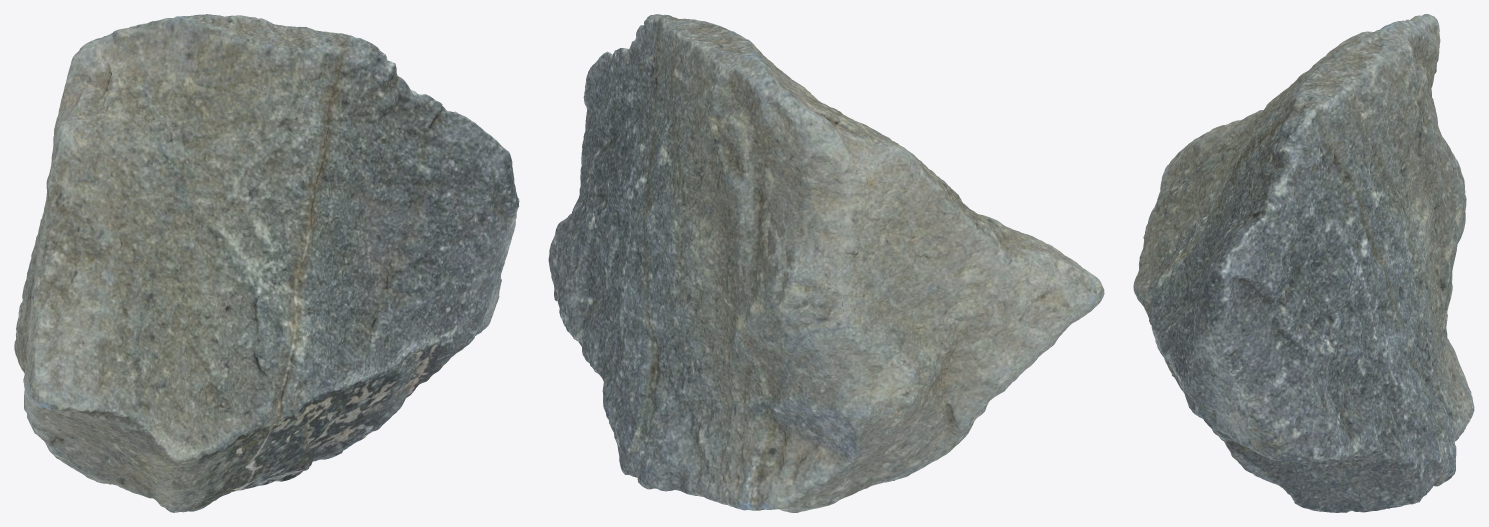
Rendered from serpentinite.glb.
3 views of the same model, side by side, from view 1: azimuth 30°, elevation 25°; view 2: azimuth 150°, elevation 25°; view 3: azimuth 270°, elevation 25° (orthographic). The views are drawn at different scales.
Visible parts, largest first — view 1: Object_2; view 2: Object_2; view 3: Object_2.
Part boxes in pixels (x1,y1,x2,y2): Object_2: (14,14,519,512); Object_2: (548,14,1104,512); Object_2: (1133,14,1474,512).
Size of the model in its own units: 0.11 by 0.0919 by 0.0655.
1 material, 1 textured.
